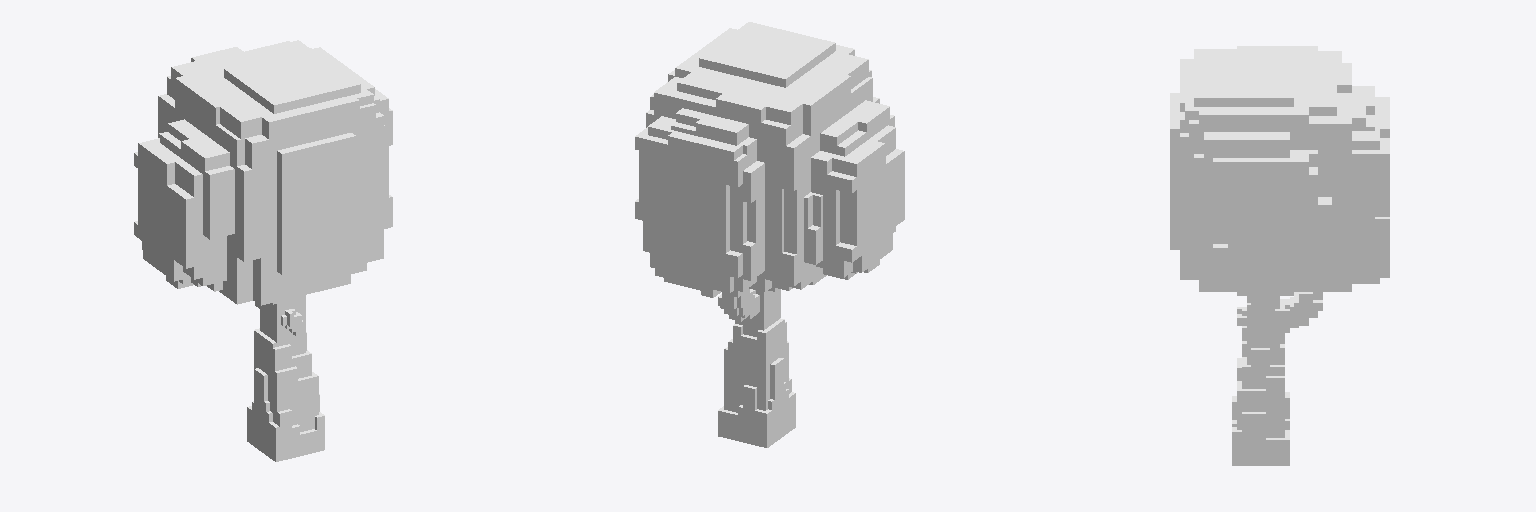
The model's file is BeesAndTrees-0.obj.
The picture shows the model from 3 angles: view 1: azimuth 30°, elevation 25°; view 2: azimuth 150°, elevation 25°; view 3: azimuth 270°, elevation 25°; orthographic projection.
Parts seen in each view (by area): view 1: object 1; view 2: object 1; view 3: object 1.
Boxes of the visible parts, <box> form: object 1: <box>134,40,392,461</box>; object 1: <box>635,22,904,447</box>; object 1: <box>1170,46,1389,465</box>.
Bounding box in the file's own units: 5 × 8.7 × 4.6.